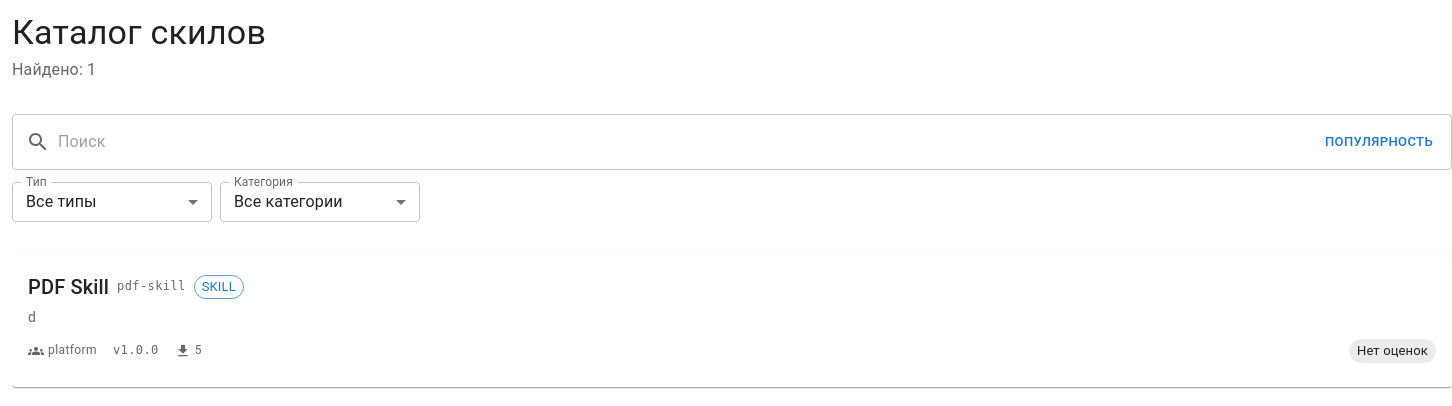
direction items hidden for popularity sort
Expected: the heading "PDF Skill" is shown, left=28, top=271, right=109, bottom=303
Click the button with aria-label "Настройка сортировки" at (1379, 142), box left=1320, top=127, right=1438, bottom=157
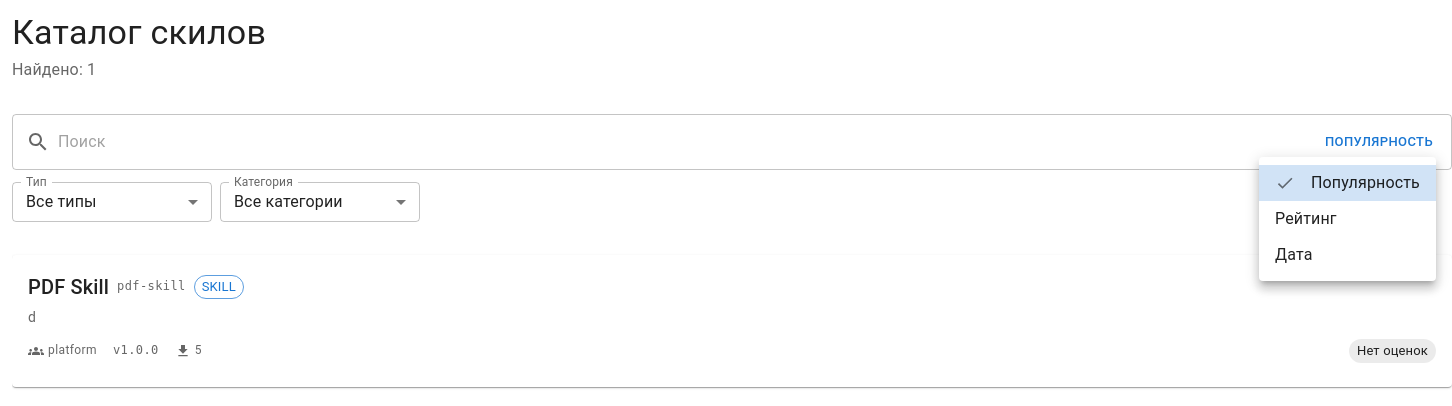
Expected: the menu item "По убыванию" is not shown
Now the menu item "Популярность" is shown, box left=1259, top=165, right=1436, bottom=201
Click the menu item "Дата" at (1294, 254), box left=1275, top=245, right=1312, bottom=264
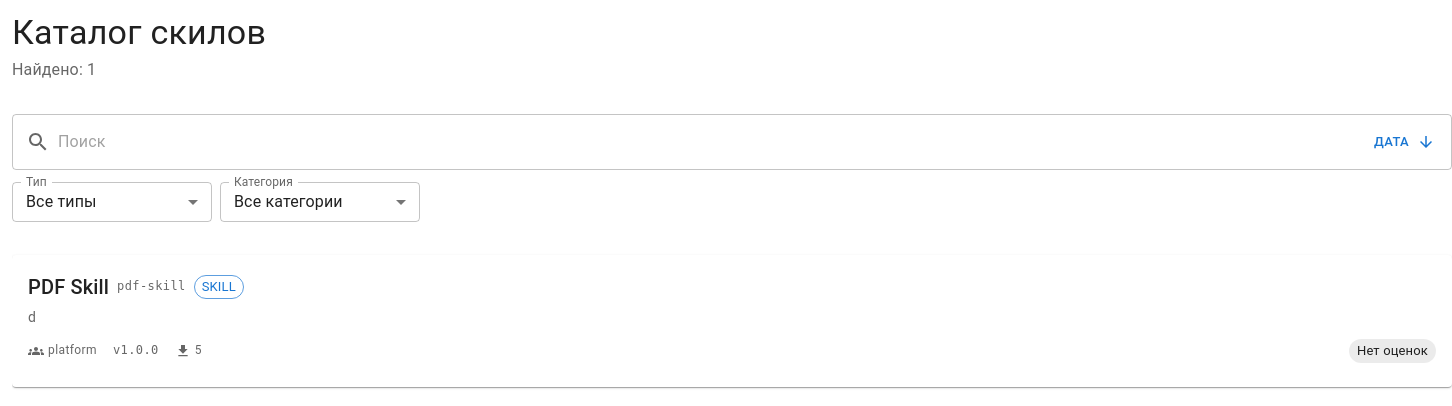
Click the button with aria-label "Настройка сортировки" at (1403, 142), box left=1369, top=127, right=1438, bottom=157
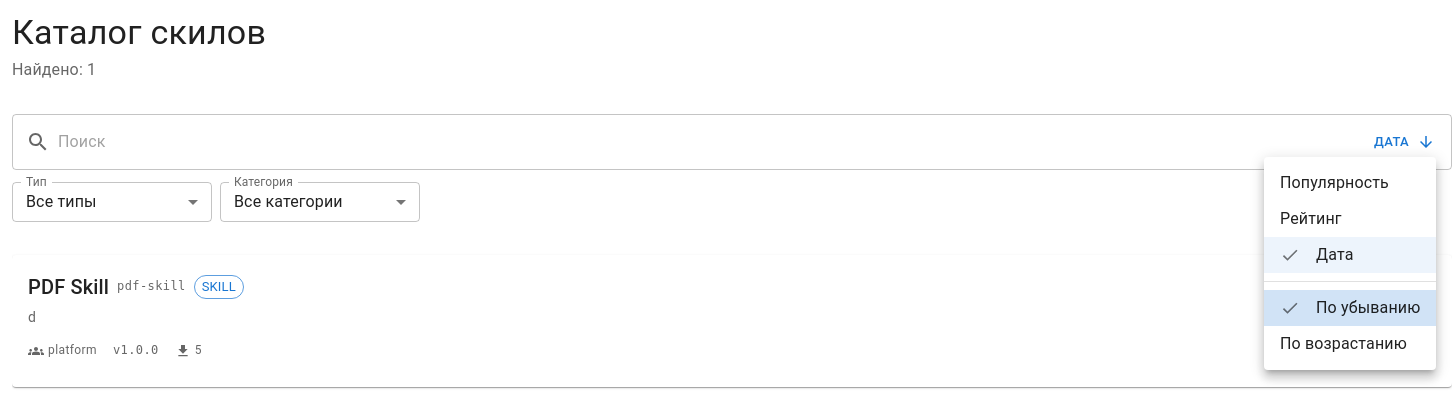
Now the menu item "По убыванию" is shown, box left=1264, top=290, right=1436, bottom=326
Now the menu item "По возрастанию" is shown, box left=1280, top=334, right=1407, bottom=353
Click the menu item "Популярность" at (1334, 182), box left=1280, top=173, right=1389, bottom=192
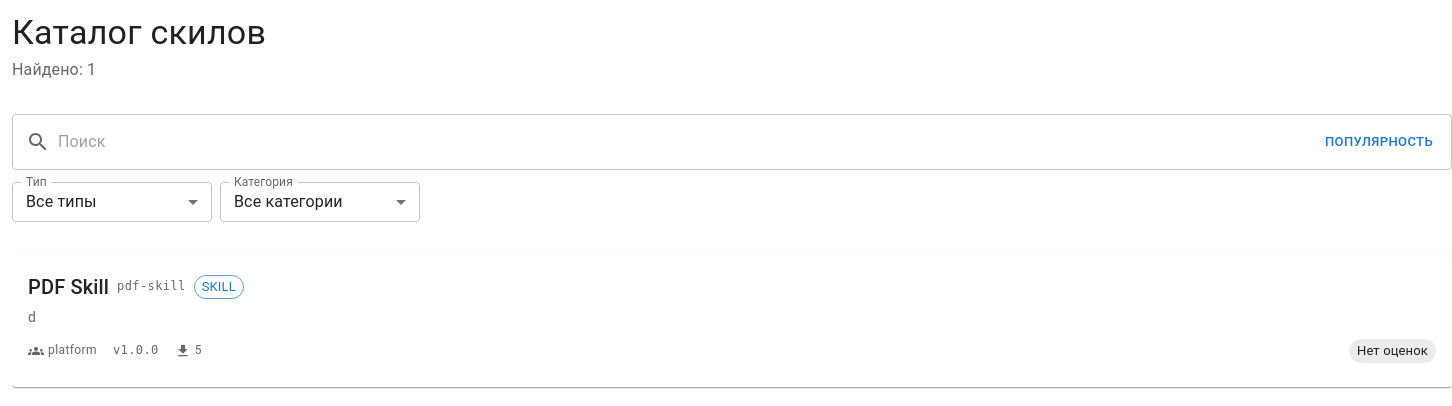
Click the button with aria-label "Настройка сортировки" at (1379, 142), box left=1320, top=127, right=1438, bottom=157
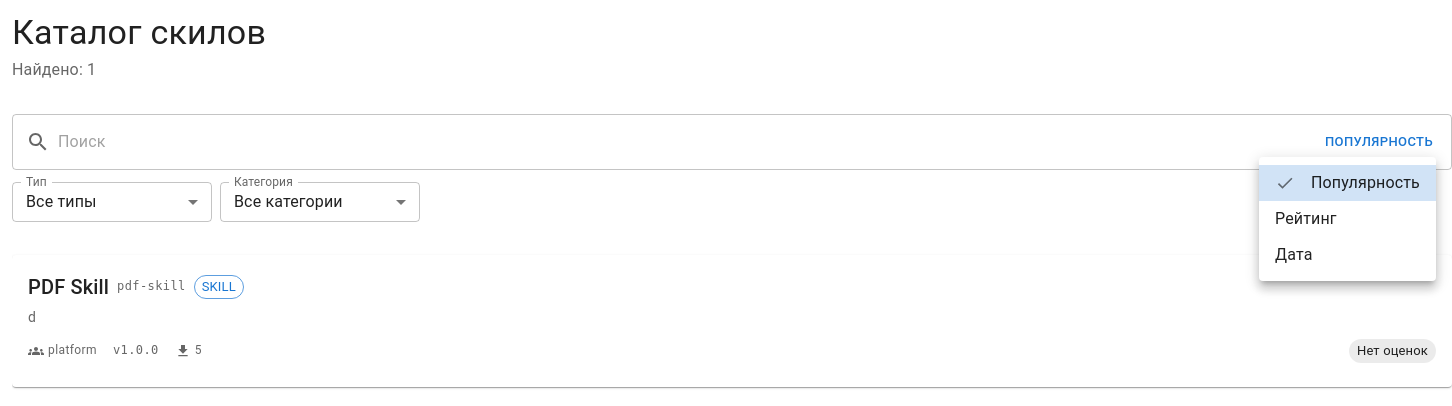
Expected: the menu item "По убыванию" is not shown
Now the menu item "Популярность" is shown, box left=1259, top=165, right=1436, bottom=201
